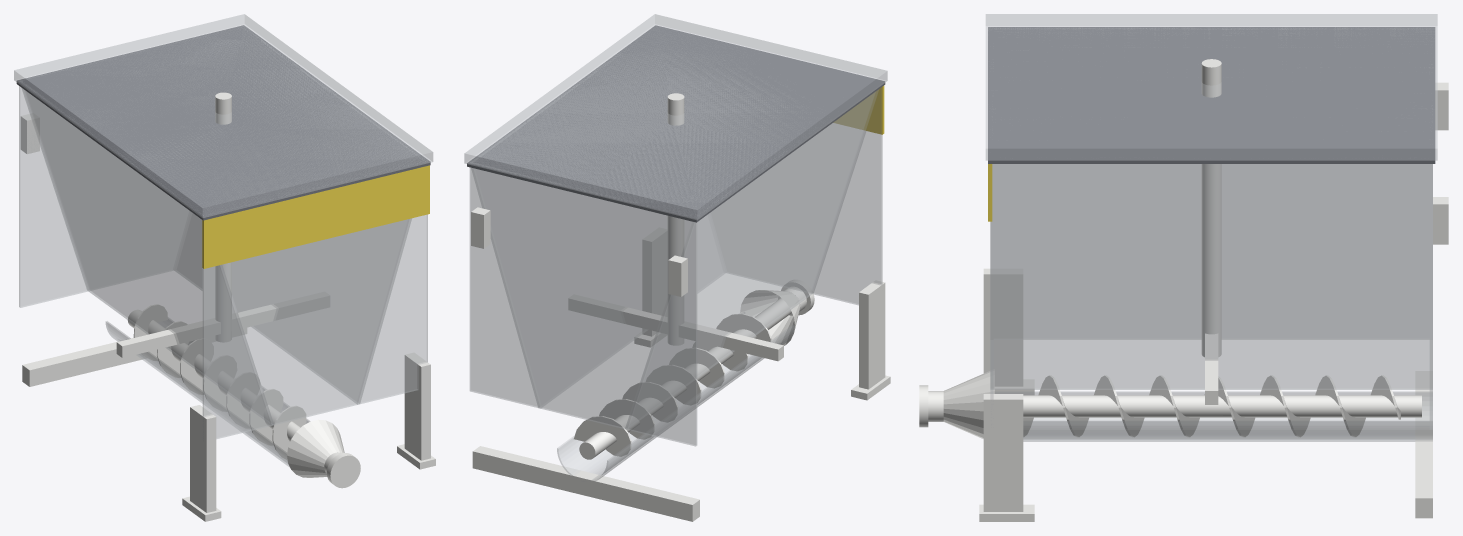
Rendered from kasar_pro.glb.
3 renders of one model, left to right at view 1: azimuth 30°, elevation 25°; view 2: azimuth 150°, elevation 25°; view 3: azimuth 270°, elevation 25°, orthographic. The views are drawn at different scales.
Parts seen in each view (by area): view 1: govde_yan, kapak, conta, govde_on, govde_arka, bant, kanat, ayak1, ayak-1, ayak_arka, cikis_hunisi, yatak (+6 smaller); view 2: govde_yan, govde_arka, kapak, conta, govde_on, kanat, ayak_arka, yatak, ayak-1, mil, ayak1, karistirici_mil (+6 smaller); view 3: govde_yan, kapak, conta, yatak, mil, kanat, ayak1, ayak-1, karistirici_mil, ayak_arka, cikis_hunisi, karistirici_kanat1 (+5 smaller).
Boxes of the visible parts, left/top/right/bottom form: govde_yan: left=20, top=42, right=412, bottom=425; kapak: left=14, top=14, right=433, bottom=217; conta: left=16, top=25, right=430, bottom=220; govde_on: left=202, top=214, right=427, bottom=440; govde_arka: left=19, top=86, right=189, bottom=307; bant: left=202, top=165, right=429, bottom=268; kanat: left=133, top=304, right=306, bottom=459; ayak1: left=404, top=352, right=430, bottom=460; ayak-1: left=190, top=405, right=216, bottom=512; ayak_arka: left=22, top=321, right=247, bottom=386; cikis_hunisi: left=287, top=419, right=344, bottom=477; yatak: left=105, top=318, right=309, bottom=467; govde_yan: left=471, top=79, right=878, bottom=429; govde_arka: left=469, top=162, right=697, bottom=446; kapak: left=464, top=14, right=887, bottom=219; conta: left=467, top=25, right=885, bottom=222; govde_on: left=711, top=88, right=882, bottom=305; kanat: left=574, top=313, right=771, bottom=456; ayak_arka: left=472, top=446, right=699, bottom=521; yatak: left=557, top=312, right=794, bottom=480; ayak-1: left=859, top=280, right=885, bottom=389; mil: left=579, top=298, right=791, bottom=459; ayak1: left=642, top=227, right=667, bottom=336; karistirici_mil: left=667, top=93, right=684, bottom=345; govde_yan: left=990, top=164, right=1432, bottom=389; kapak: left=985, top=14, right=1437, bottom=160; conta: left=988, top=27, right=1435, bottom=163; yatak: left=994, top=391, right=1432, bottom=441; mil: left=1023, top=395, right=1421, bottom=417; kanat: left=1023, top=375, right=1400, bottom=437; ayak1: left=983, top=394, right=1023, bottom=511; ayak-1: left=983, top=268, right=1023, bottom=386; karistirici_mil: left=1201, top=59, right=1221, bottom=356; ayak_arka: left=1415, top=371, right=1432, bottom=518; cikis_hunisi: left=943, top=369, right=994, bottom=438; karistirici_kanat1: left=1205, top=333, right=1218, bottom=404.
Size of the model in its own units: 0.288 by 0.39 by 0.478.
